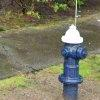a fire hydrant: (62, 25, 88, 98)
